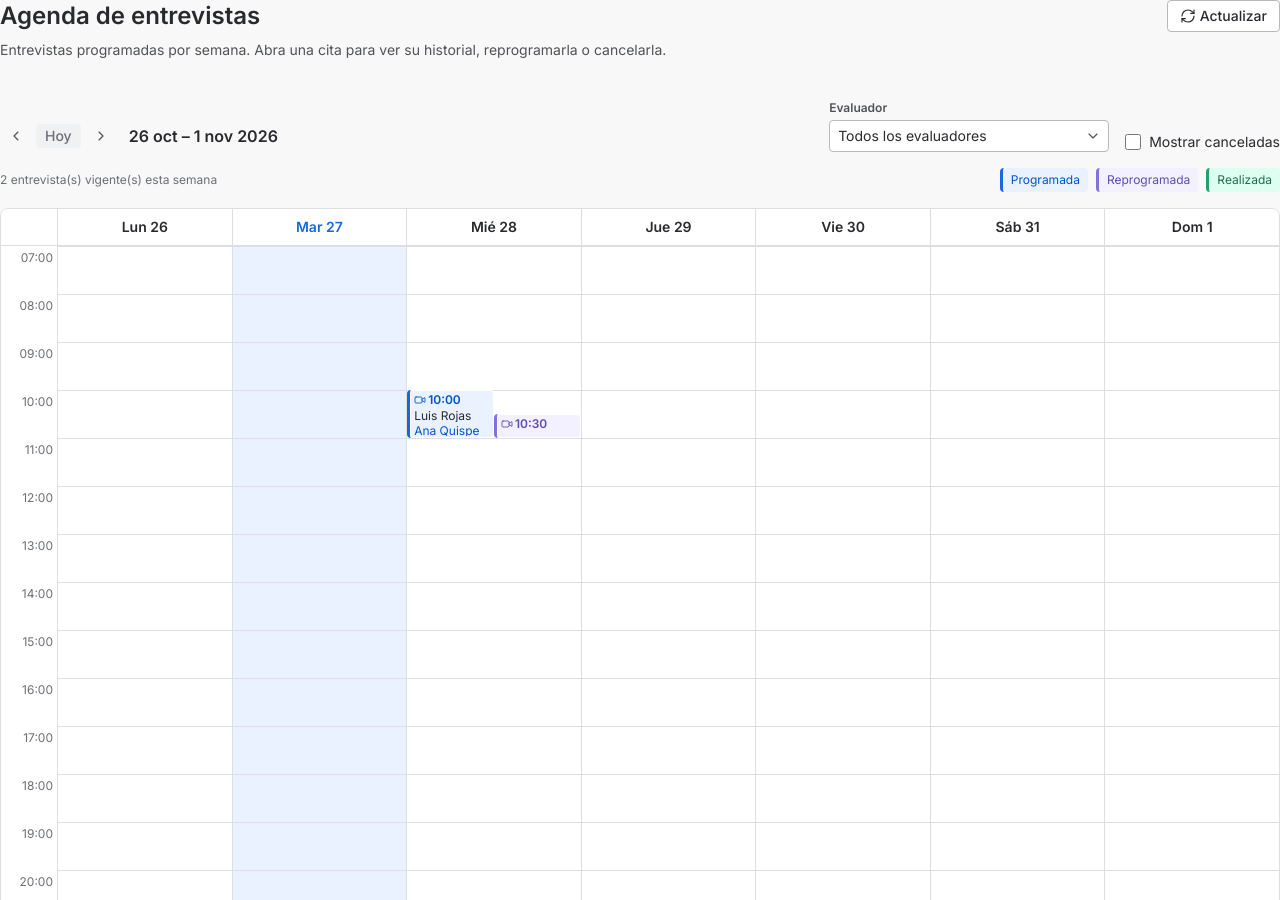
Test: RF-15.5: agenda semanal del reclutador › abre el detalle con el historial y permite reprogramar o cancelar
Click the button with aria-label "10:00 a 11:00, Luis Rojas" at x=450, y=414, box left=407, top=390, right=494, bottom=438
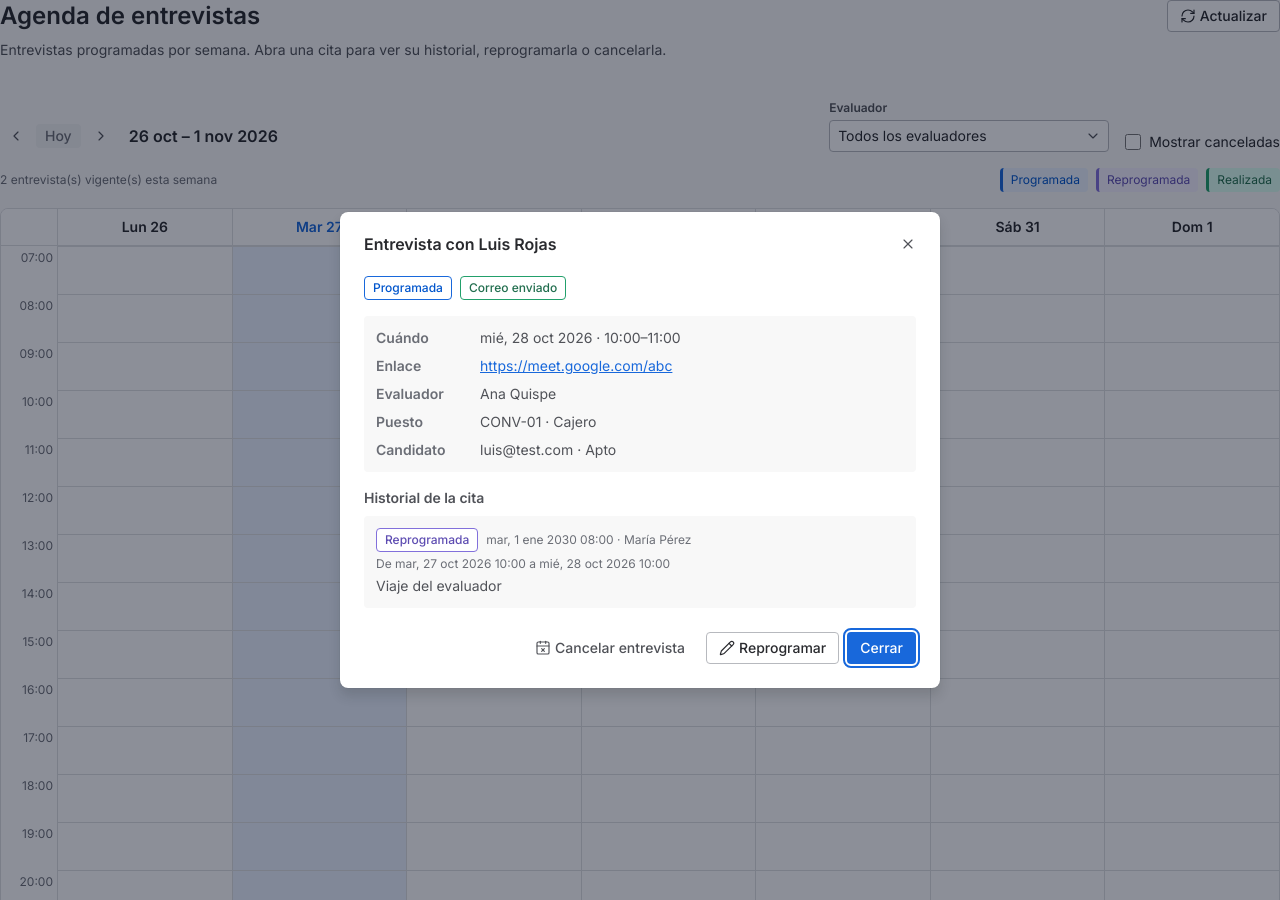
expect the text "Viaje del evaluador" is shown: met, box left=376, top=576, right=502, bottom=596
expect the link "https://meet.google.com/abc" is shown: met, box left=480, top=357, right=672, bottom=374
expect the text "Correo enviado" is shown: met, box left=469, top=280, right=557, bottom=296
Click the button "Reprogramar" at x=773, y=648, box left=706, top=632, right=839, bottom=664
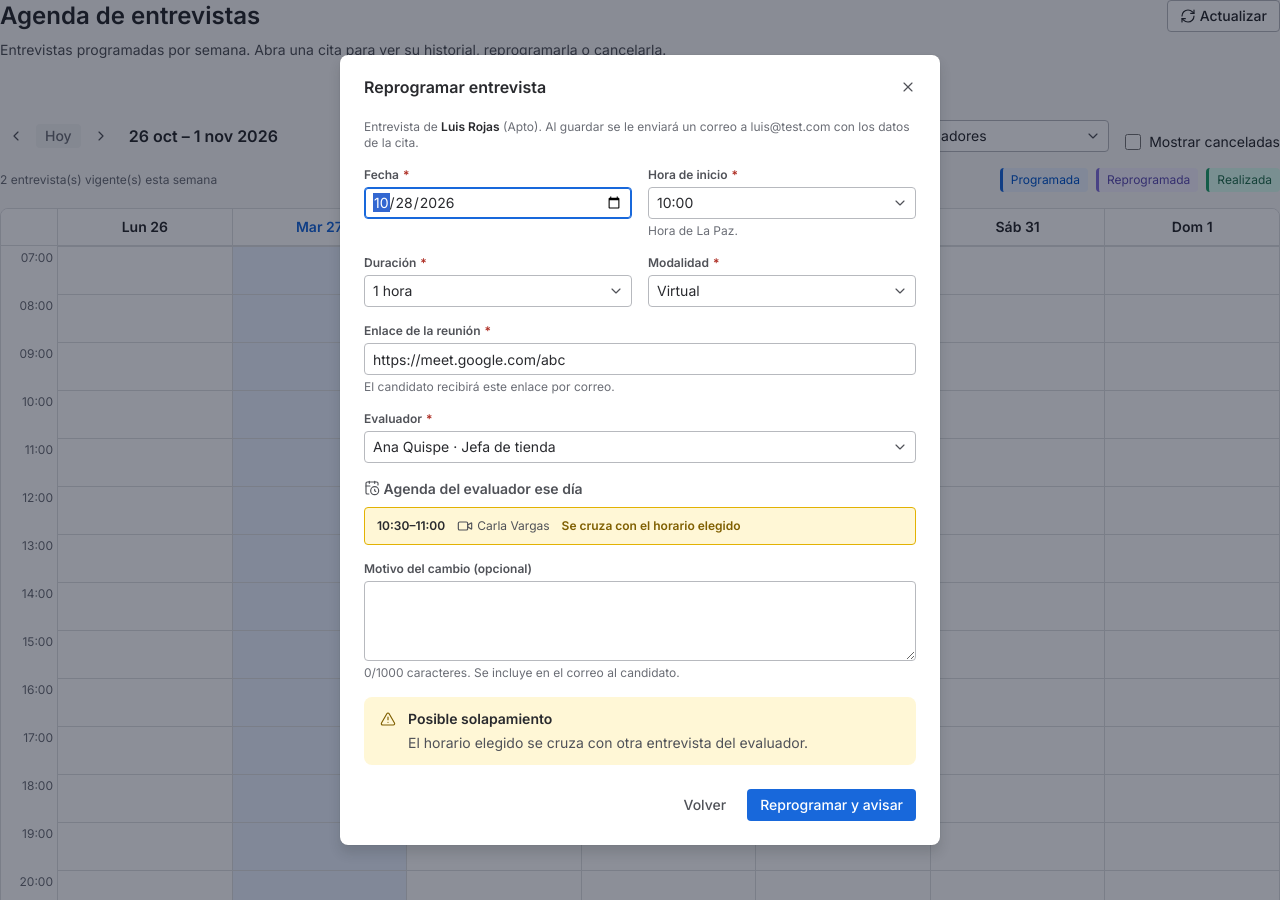
expect the dialog "Reprogramar entrevista" is shown: met, box left=340, top=55, right=940, bottom=845
Click the button "Volver" at x=705, y=805, box left=670, top=789, right=739, bottom=821
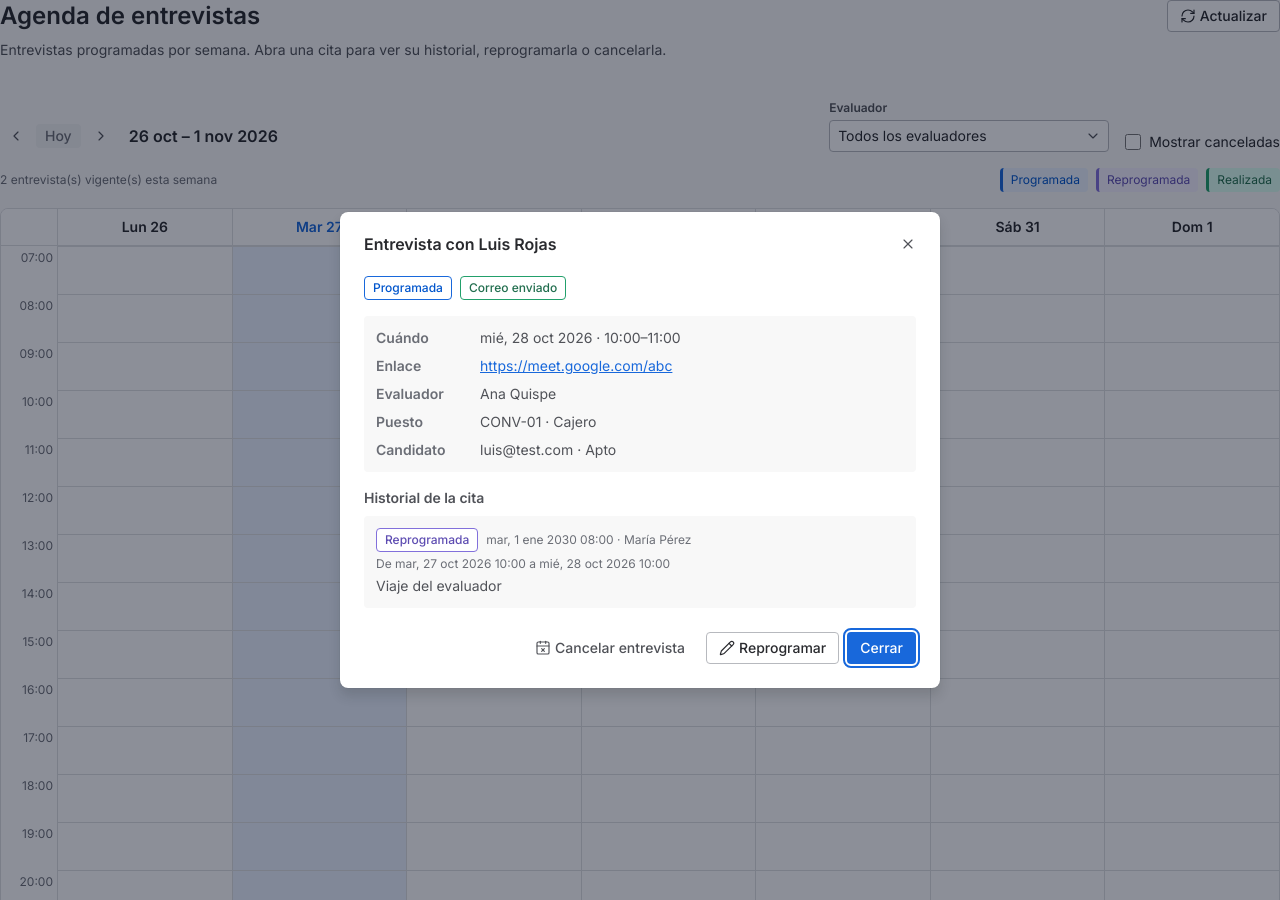
Click the button "Cancelar entrevista" at x=610, y=648, box left=522, top=632, right=698, bottom=664
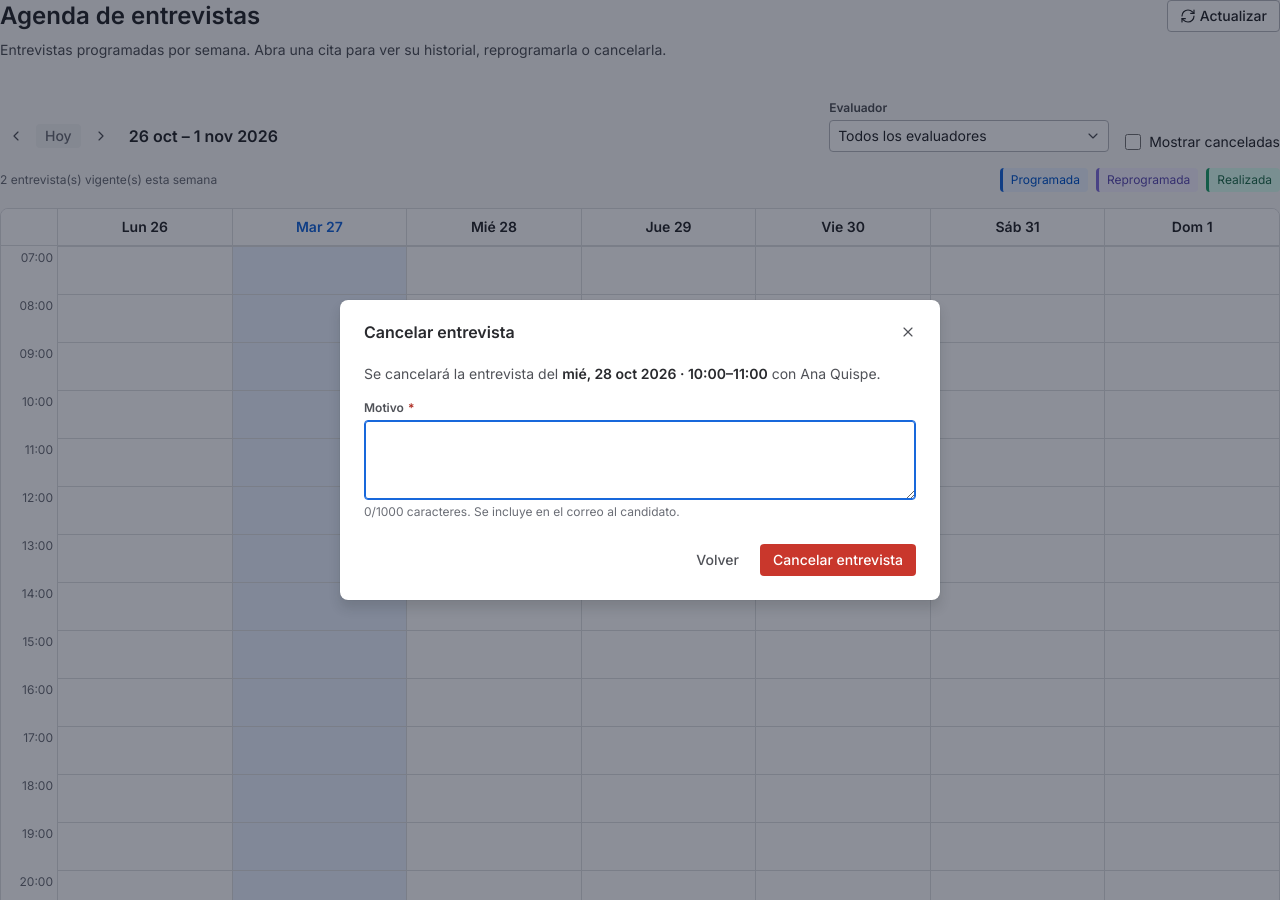
expect the text box labelled "Motivo *" is shown: met, box left=364, top=420, right=916, bottom=500
